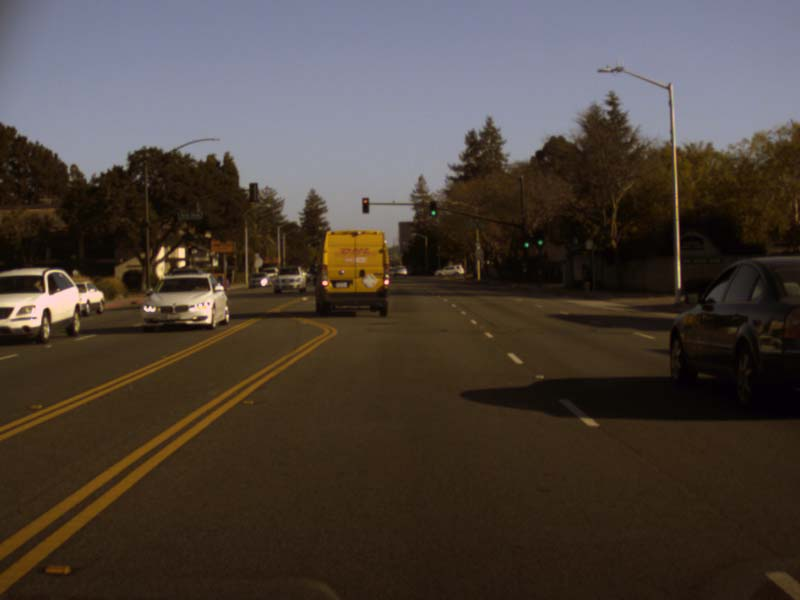Green: (535, 229, 543, 247), (522, 234, 529, 249), (430, 201, 436, 215)
Red: (362, 197, 369, 213)
